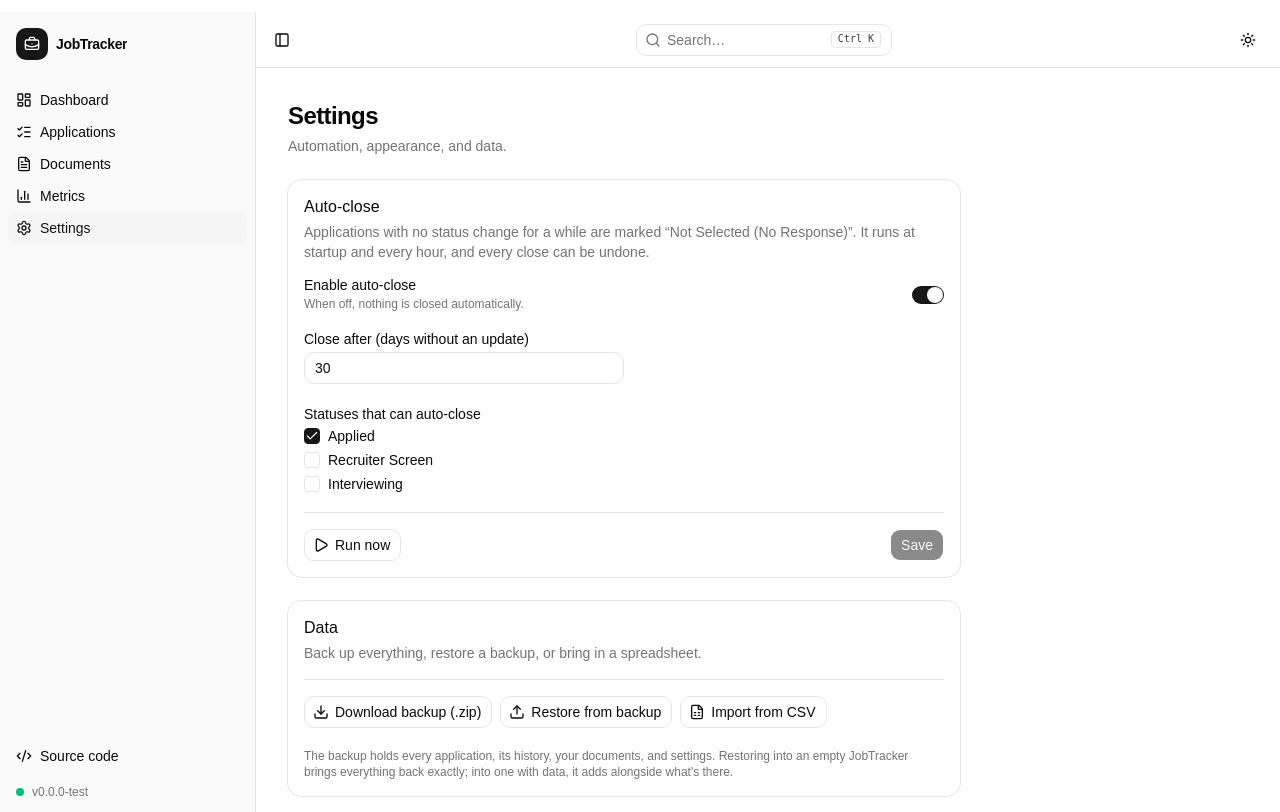
Test: Settings page › Run now reports how many applications closed
The width and height of the screenshot is (1280, 812).
What coordinates should you click on to do the following:
click the button "Run now"
I would click on:
 (353, 545)
Its box is [304,529,401,561].
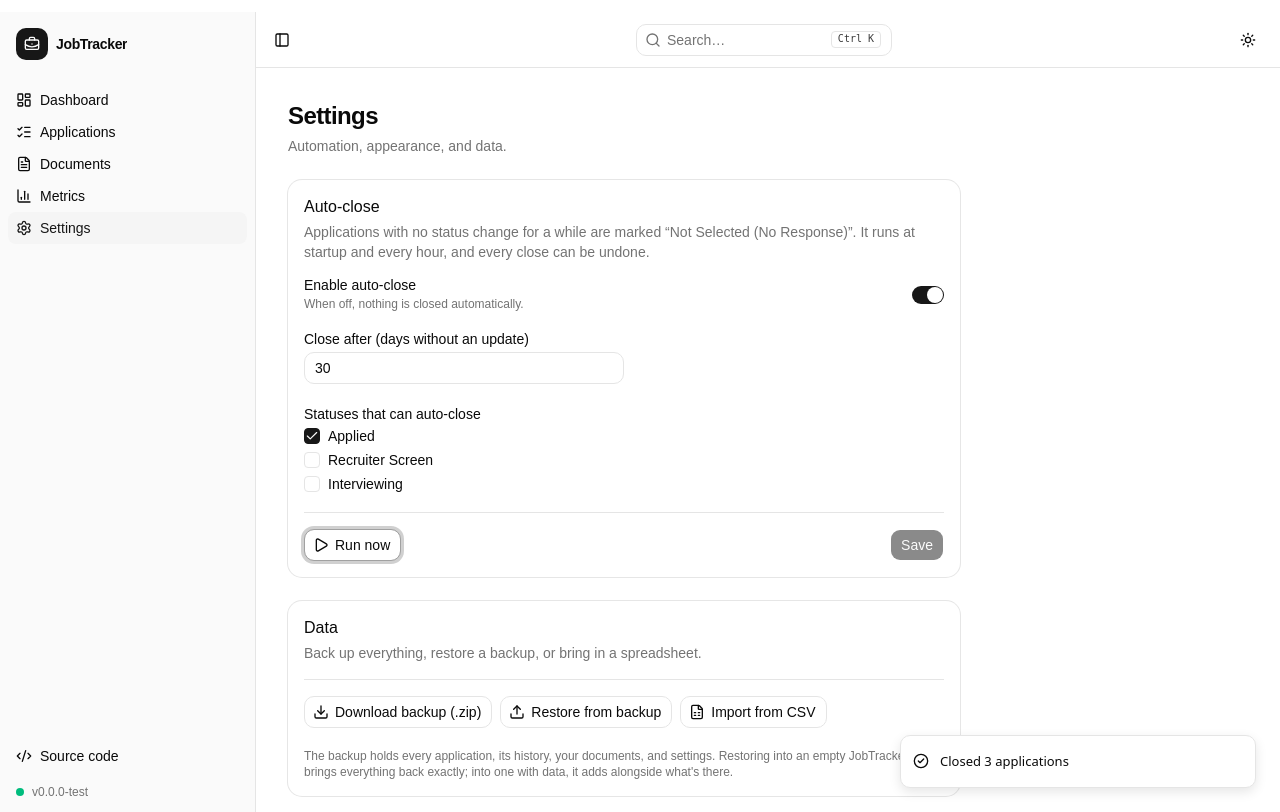
Expected: the text "Closed 3 applications" is shown, [940,752,1069,771]
